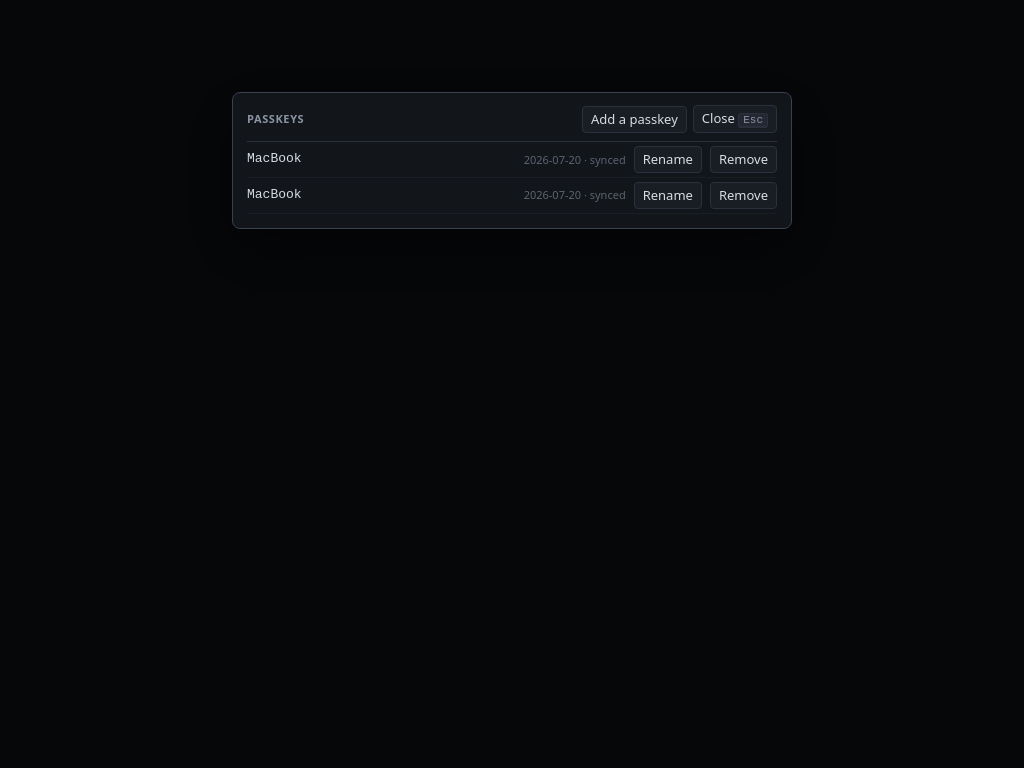
Test: PasskeyManager › surfaces a failed operation without dropping the list
The image size is (1024, 768).
Click the 1st button with test id "passkey-remove".
click(743, 160)  # box 710,146 -> 777,173
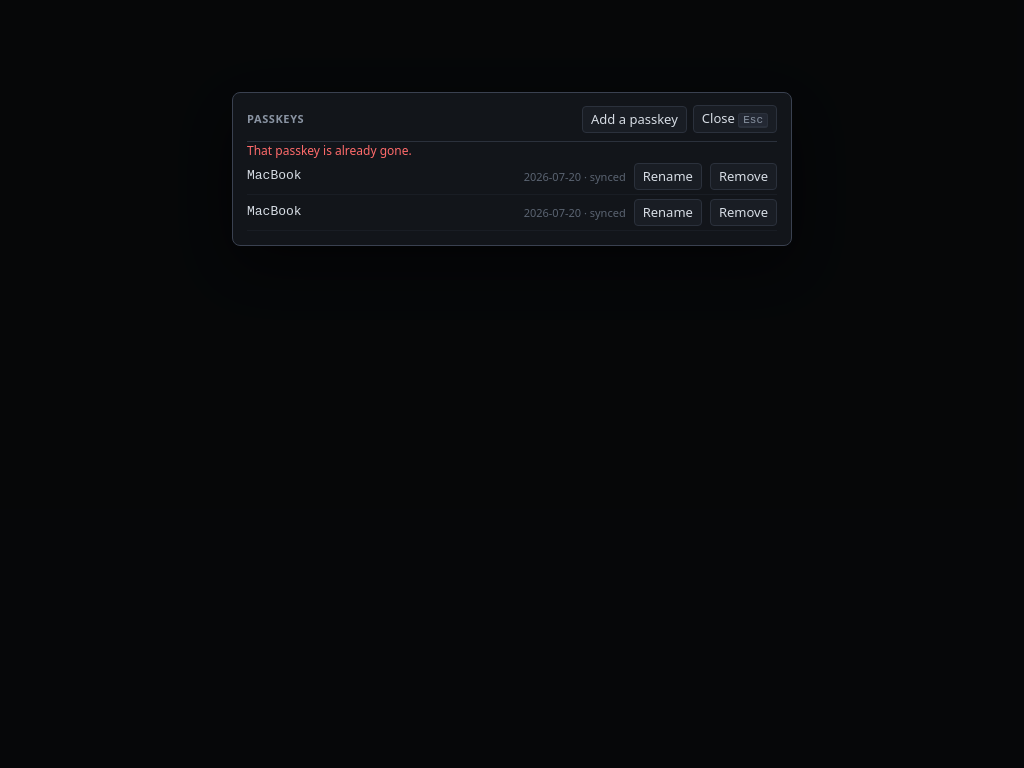
Expected: the message with test id "passkeys-error" shows "already gone", 247,142 -> 412,159
